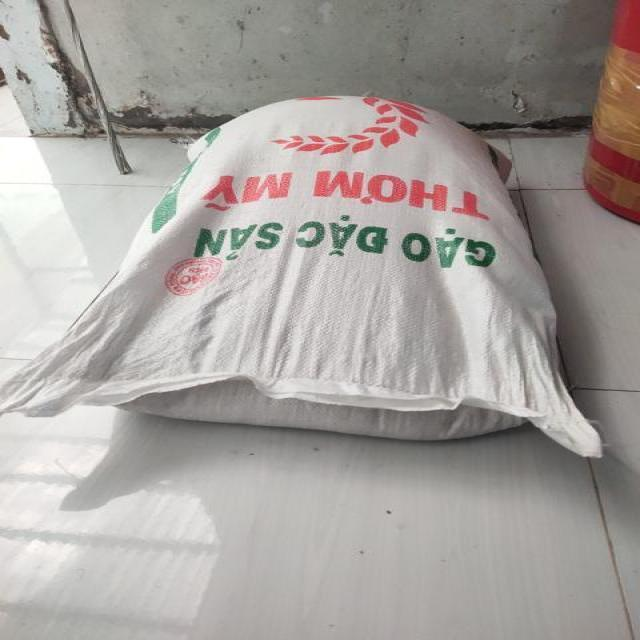gunny_bag: (1, 96, 600, 458)
